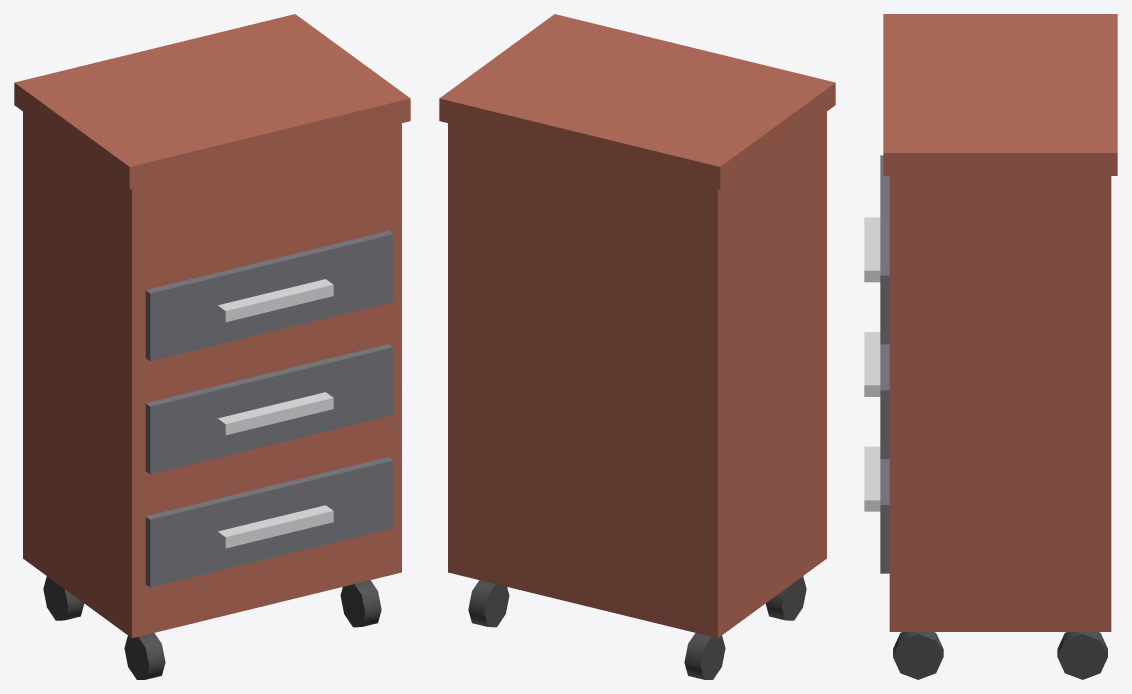
The model's file is tool_chest.glb.
3 renders of one model, left to right at view 1: azimuth 30°, elevation 25°; view 2: azimuth 150°, elevation 25°; view 3: azimuth 270°, elevation 25°, orthographic.
Visible parts, largest first — view 1: body, top, drawer_1, drawer_2, drawer_3, handle_1, handle_2, handle_3, wheel_fl, wheel_fr, wheel_bl; view 2: body, top, wheel_bl, wheel_br, wheel_fl; view 3: body, top, wheel_br, wheel_fr, drawer_1, drawer_2, drawer_3, handle_1, handle_3, handle_2.
Boxes of the visible parts, x1,y1,x2,y2 form: body: [23, 112, 401, 638]; top: [14, 14, 410, 189]; drawer_1: [145, 231, 393, 361]; drawer_2: [145, 344, 393, 474]; drawer_3: [145, 457, 393, 587]; handle_1: [217, 279, 333, 322]; handle_2: [217, 392, 333, 435]; handle_3: [217, 505, 333, 548]; wheel_fl: [124, 633, 165, 679]; wheel_fr: [340, 580, 381, 627]; wheel_bl: [43, 576, 84, 620]; body: [448, 112, 826, 638]; top: [439, 14, 835, 189]; wheel_bl: [684, 633, 725, 679]; wheel_br: [468, 580, 509, 627]; wheel_fl: [765, 576, 806, 620]; body: [889, 176, 1111, 631]; top: [883, 14, 1117, 175]; wheel_br: [1057, 632, 1107, 679]; wheel_fr: [893, 632, 943, 679]; drawer_1: [880, 155, 889, 344]; drawer_2: [880, 344, 889, 458]; drawer_3: [880, 459, 889, 573]; handle_1: [864, 217, 880, 282]; handle_3: [864, 446, 880, 511]; handle_2: [864, 332, 880, 396].
Size of the model in its own units: 0.52 by 0.94 by 0.4.
